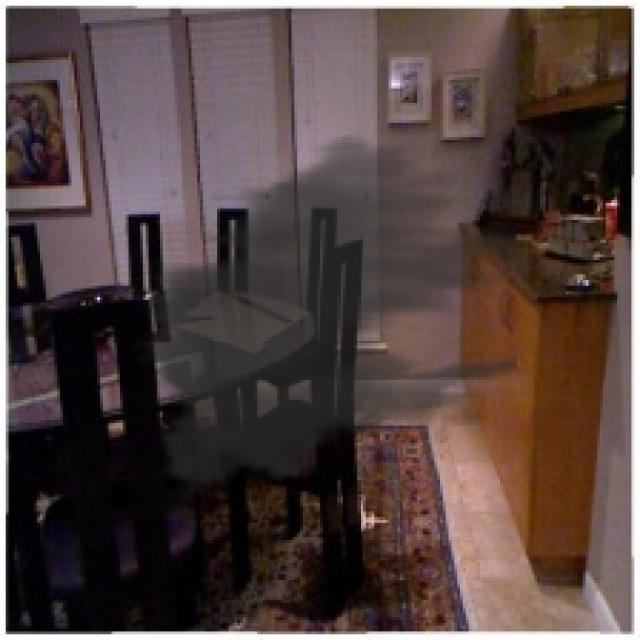smoke: (126, 123, 517, 508)
